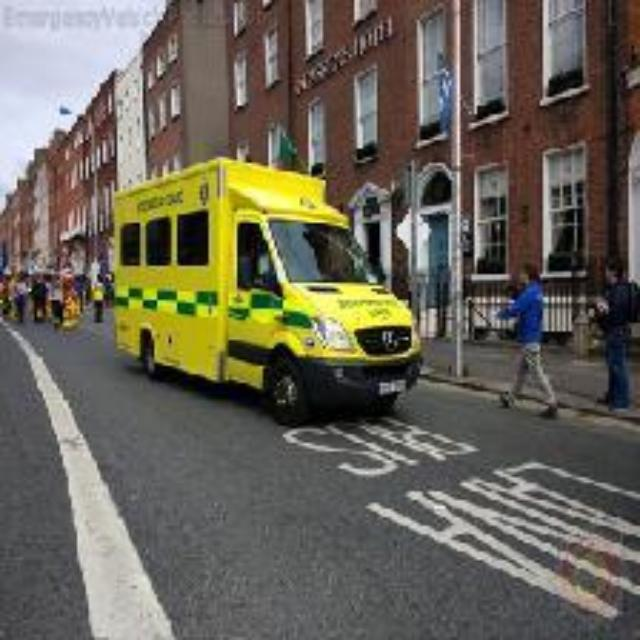emergency: (89, 168, 423, 410)
